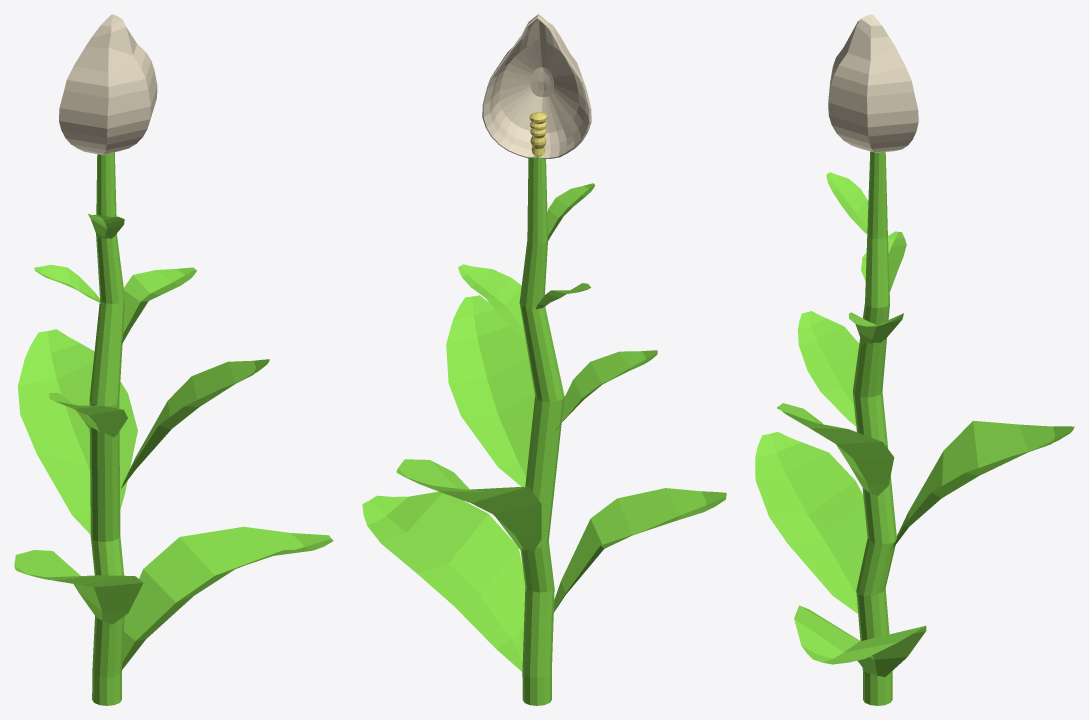
Rendered from stage3.fbx.
3 renders of one model, left to right at view 1: azimuth 30°, elevation 25°; view 2: azimuth 150°, elevation 25°; view 3: azimuth 270°, elevation 25°, orthographic.
Visible parts, largest first — view 1: Sphere.001; view 2: Sphere.001; view 3: Sphere.001.
Boxes of the visible parts, x1=… form: Sphere.001: x1=14, y1=14, x2=333, y2=705; Sphere.001: x1=362, y1=14, x2=726, y2=705; Sphere.001: x1=755, y1=14, x2=1074, y2=705.
Size of the model in its own units: 139 by 269 by 113.
